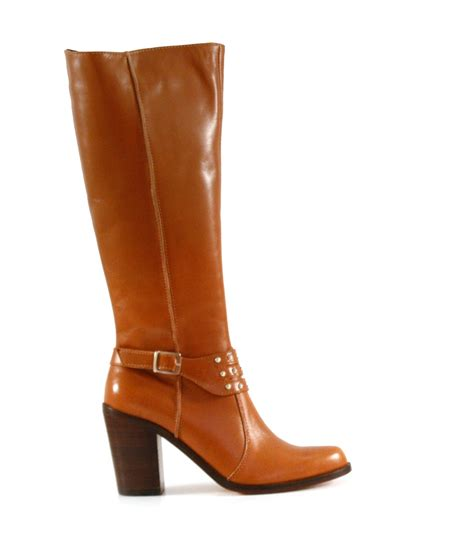cuero: (62, 42, 349, 488)
